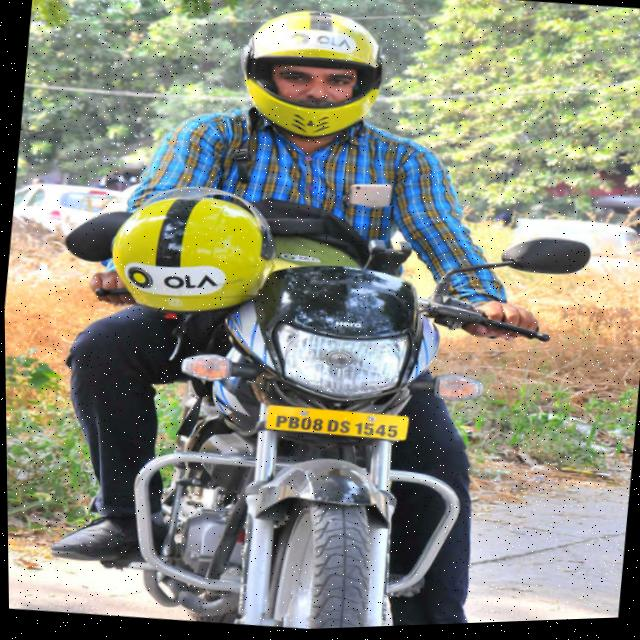helmet: (94, 171, 288, 333), (224, 0, 399, 157)
